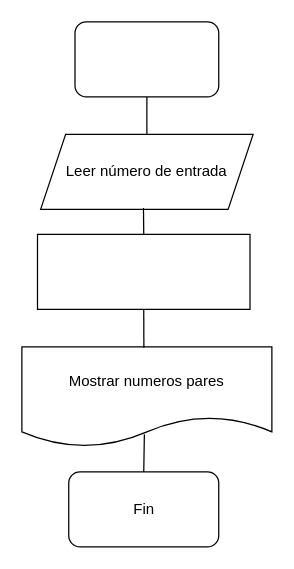
Some shapes in this 294 by 569 pixel diagram are drawn without their labels. The shapes that lost their labels are listed below. From the top down, each one's centre as x and y in pixels, then its label:
At (146,59): "Inicio".
At (143,271): "Se llena array con numeros pares".
